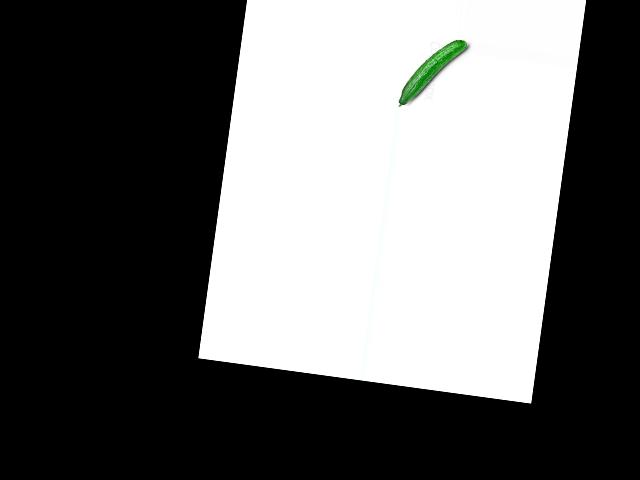cucumber: (398, 33, 468, 115)
